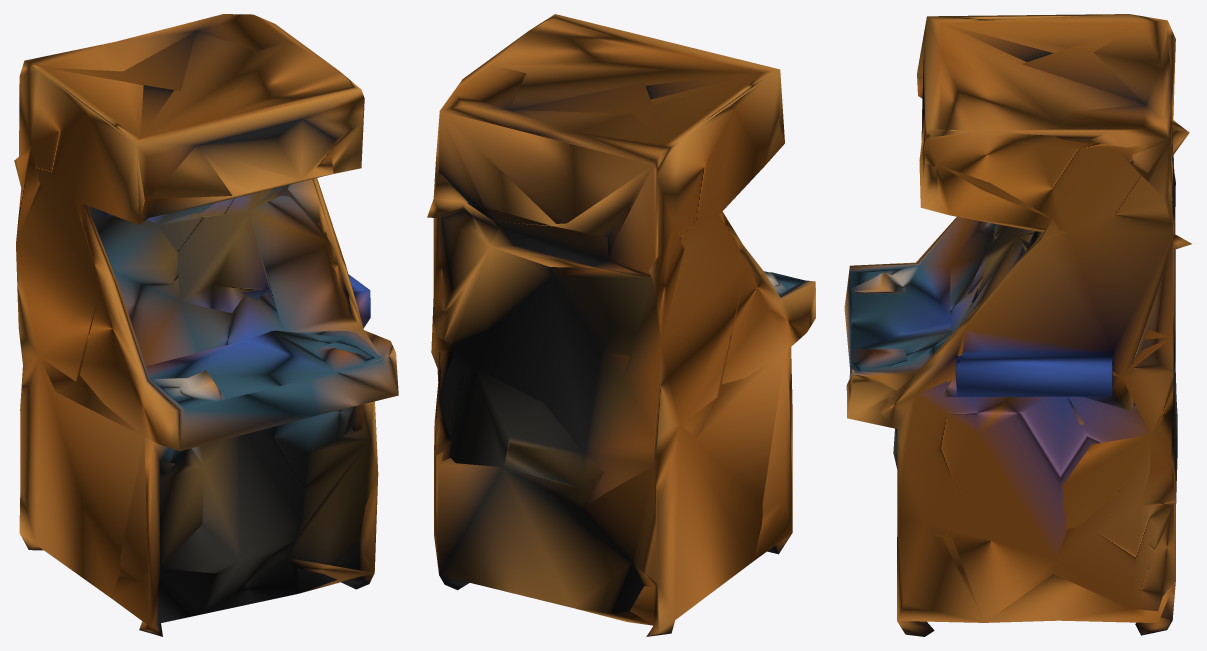
File: gen3d-arcade-machine-lod1.glb
3 renders of one model, left to right at view 1: azimuth 30°, elevation 25°; view 2: azimuth 150°, elevation 25°; view 3: azimuth 270°, elevation 25°, orthographic. The views are drawn at different scales.
Parts seen in each view (by area): view 1: part_0; view 2: part_0; view 3: part_0.
Boxes of the visible parts, box(x1,y1,x2,y2) form: part_0: box(14, 14, 398, 636); part_0: box(427, 14, 815, 636); part_0: box(844, 14, 1191, 636).
Bounding box in the file's own units: 0.5357 × 0.9986 × 0.6191.
